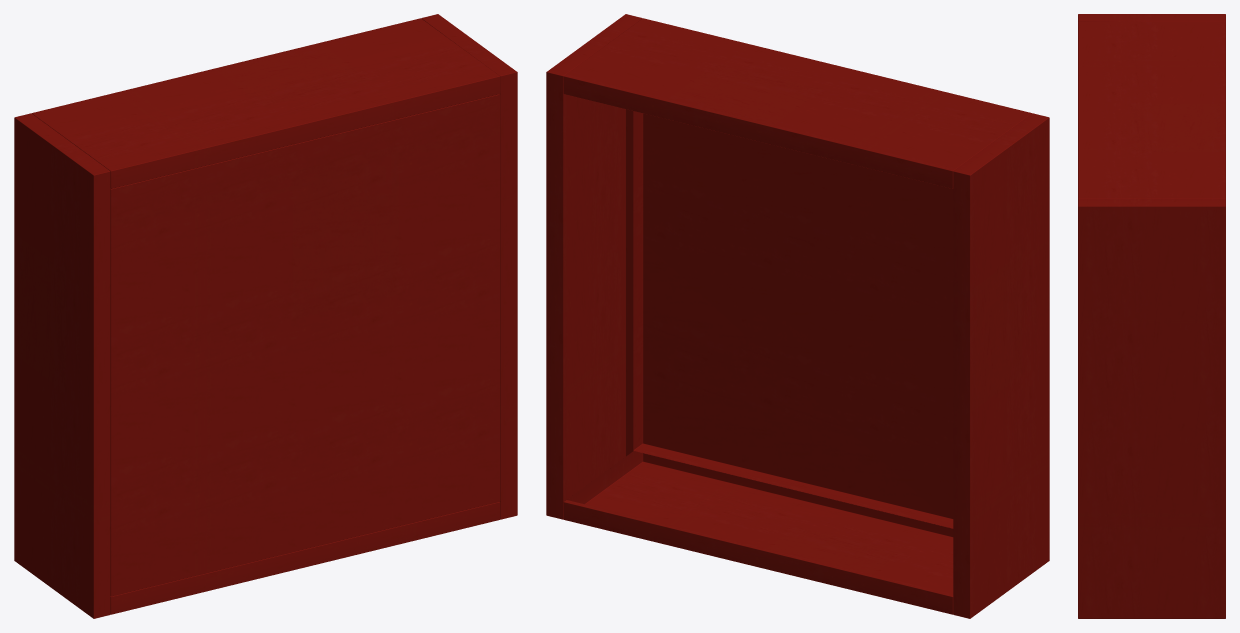
The model's file is SM_HandImprintBox.fbx.
3 views of the same model, side by side, from view 1: azimuth 30°, elevation 25°; view 2: azimuth 150°, elevation 25°; view 3: azimuth 270°, elevation 25° (orthographic). The views are drawn at different scales.
Visible parts, largest first — view 1: SM_HandImprintBox; view 2: SM_HandImprintBox; view 3: SM_HandImprintBox.
Part boxes in pixels (<box>): SM_HandImprintBox: <box>14,14,517,618</box>; SM_HandImprintBox: <box>546,14,1049,618</box>; SM_HandImprintBox: <box>1078,14,1225,618</box>.
Size of the model in its own units: 13.72 by 13.72 by 4.45.
